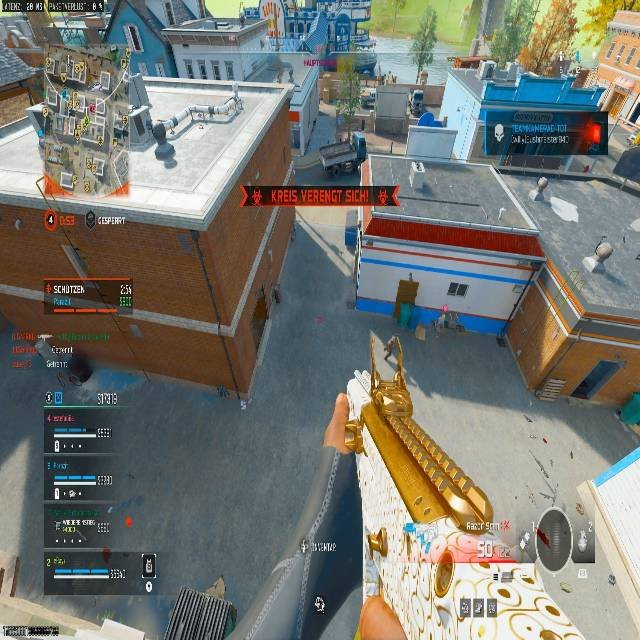player: (529, 176, 550, 205)
